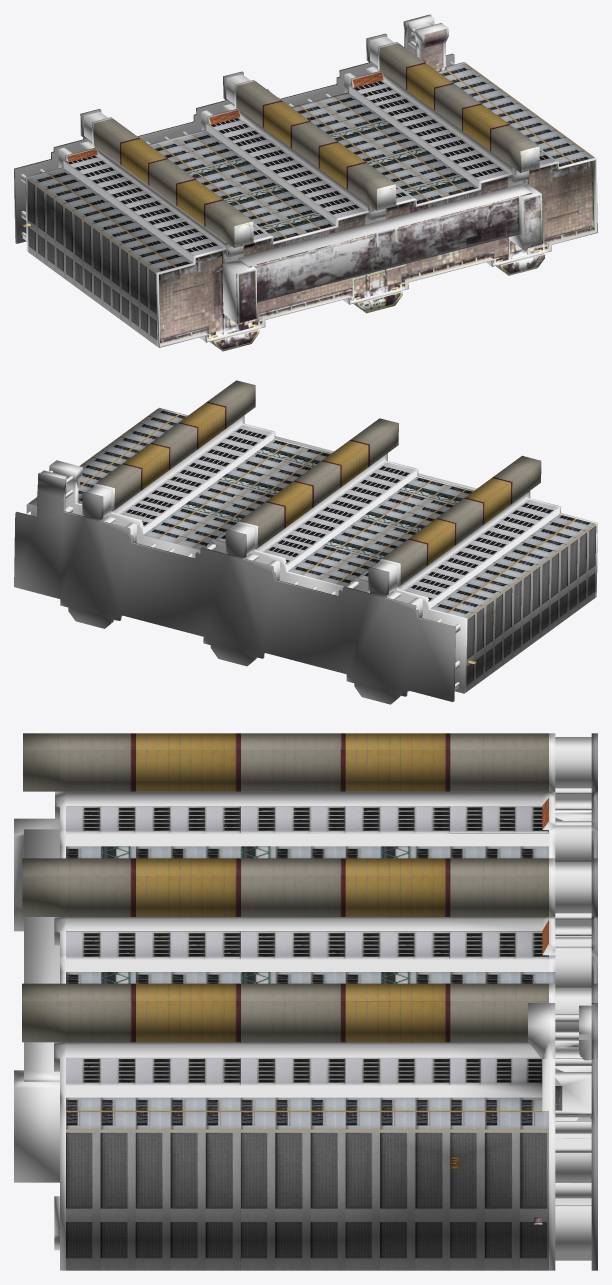
File: amk_blk311_building.obj
The picture shows the model from 3 angles, top to bottom: view 1: azimuth 30°, elevation 25°; view 2: azimuth 150°, elevation 25°; view 3: azimuth 270°, elevation 25°; orthographic projection. The views are drawn at different scales.
Parts seen in each view (by area): view 1: polygon.779; view 2: polygon.779; view 3: polygon.779.
Part boxes in pixels (x1,y1,x2,y2): polygon.779: (14, 14, 597, 351); polygon.779: (14, 380, 597, 704); polygon.779: (14, 733, 597, 1270).
Size of the model in its own units: 77.79 by 23.82 by 46.55.
Materials: 1 (1 with a texture image).
